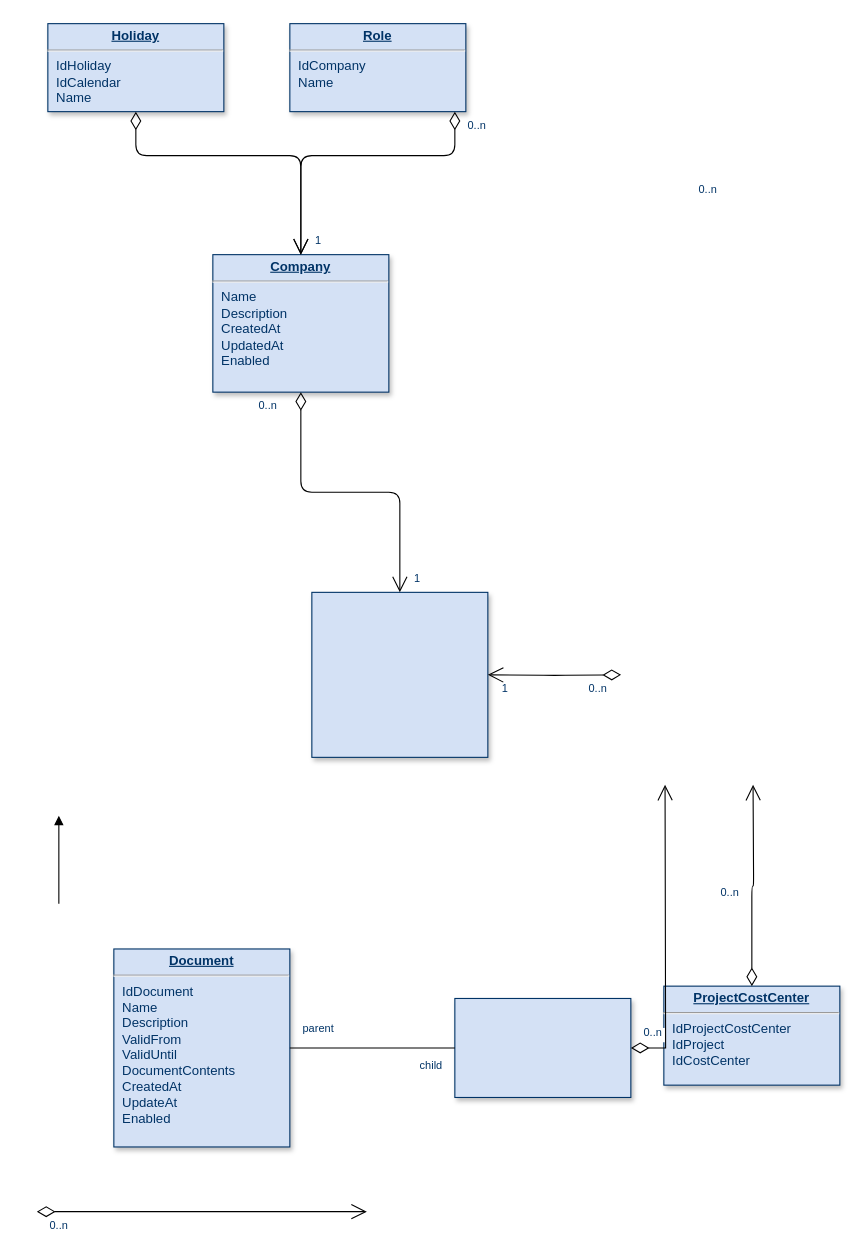
This 866x1251 diagram has some shape labels left out. The shapes that lost their labels are listed below. From the top down, each one's centre as x and y in pixels, then its label:
pixel 400 676: Client IdClient IdCompany Name Description CreatedAt UpdatedAt Enabled
pixel 543 1049: ProjectDocument IdProjectDocument IdProject IdDocument
